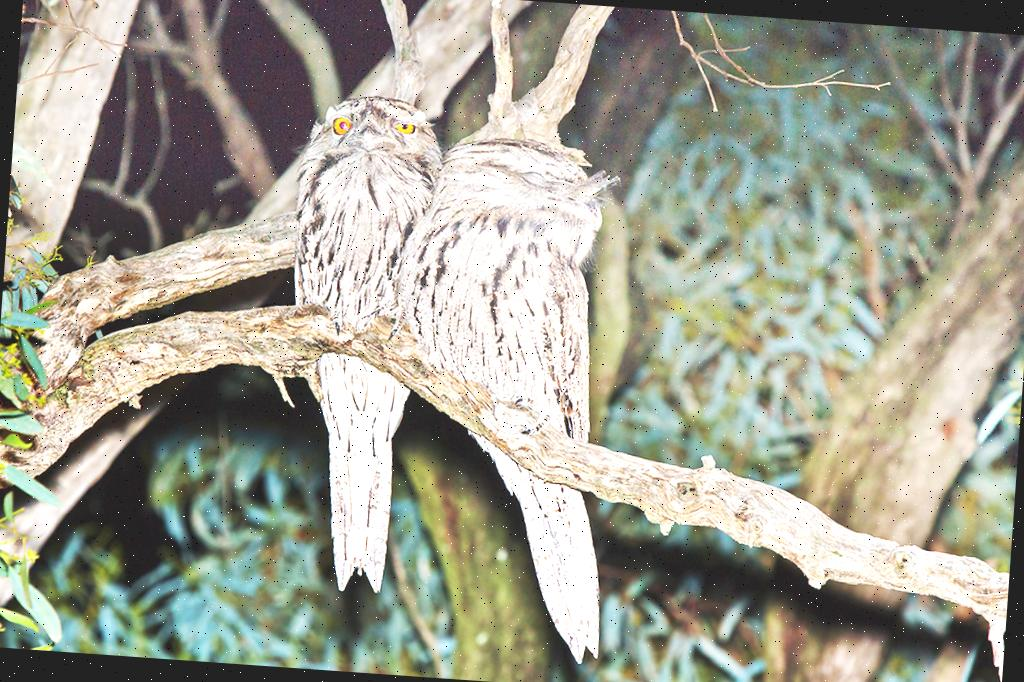Owl: (374, 130, 626, 674), (270, 88, 450, 600)
